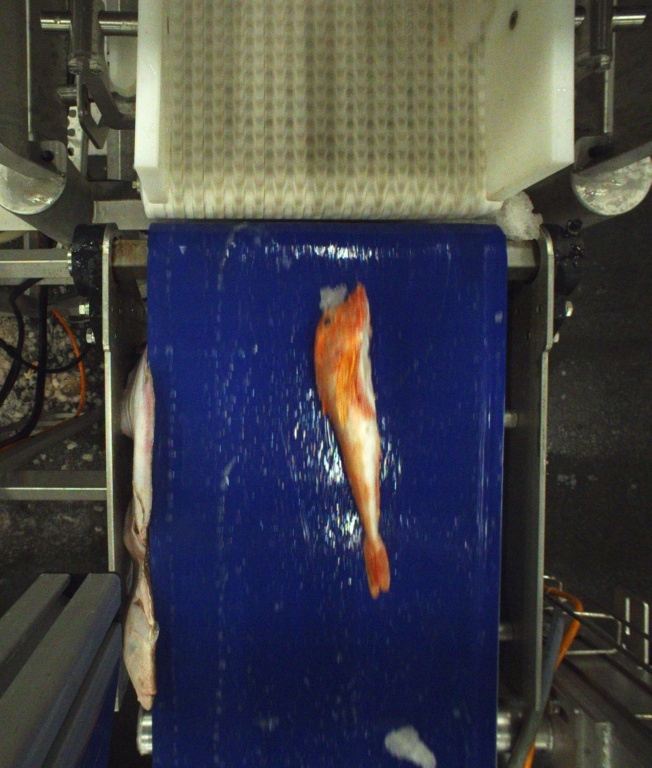GUU: (316, 280, 395, 597)
